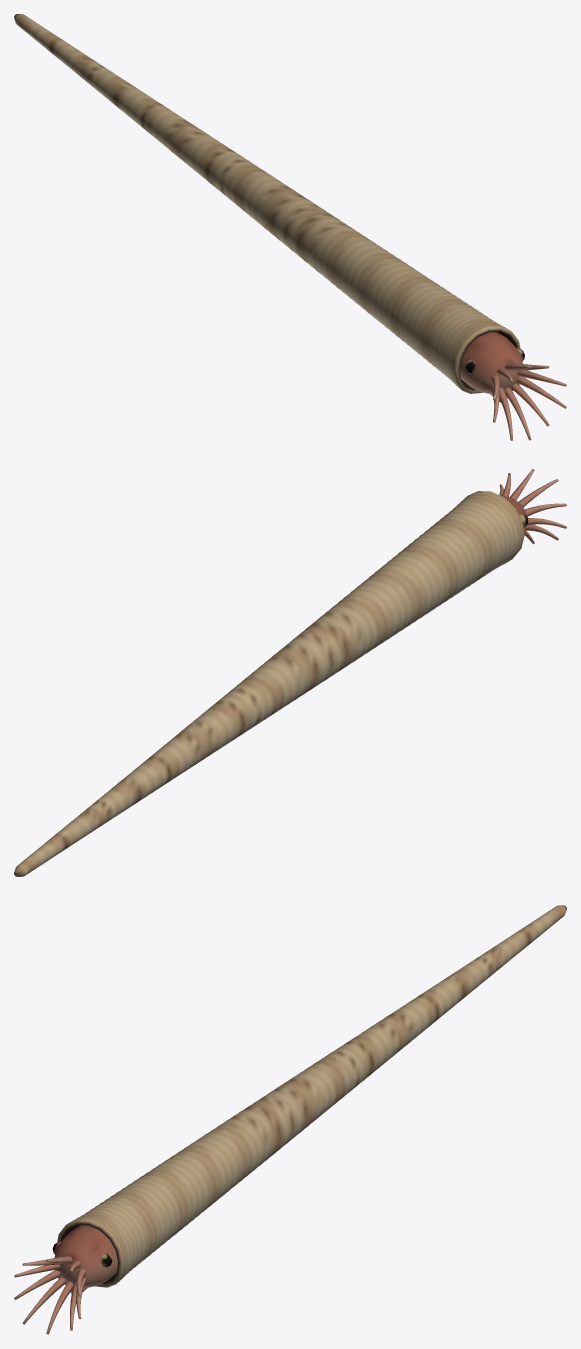
File: Baculites.fbx
The picture shows the model from 3 angles, top to bottom: view 1: azimuth 30°, elevation 25°; view 2: azimuth 150°, elevation 25°; view 3: azimuth 330°, elevation 25°; orthographic projection.
Parts seen in each view (by area): view 1: Baculites; view 2: Baculites; view 3: Baculites.
Part boxes in pixels (x1=…): Baculites: x1=14, y1=14, x2=566, y2=440; Baculites: x1=14, y1=469, x2=566, y2=876; Baculites: x1=14, y1=905, x2=566, y2=1334.
Bounding box in the file's own units: 0.1634 × 0.1844 × 2.08.
